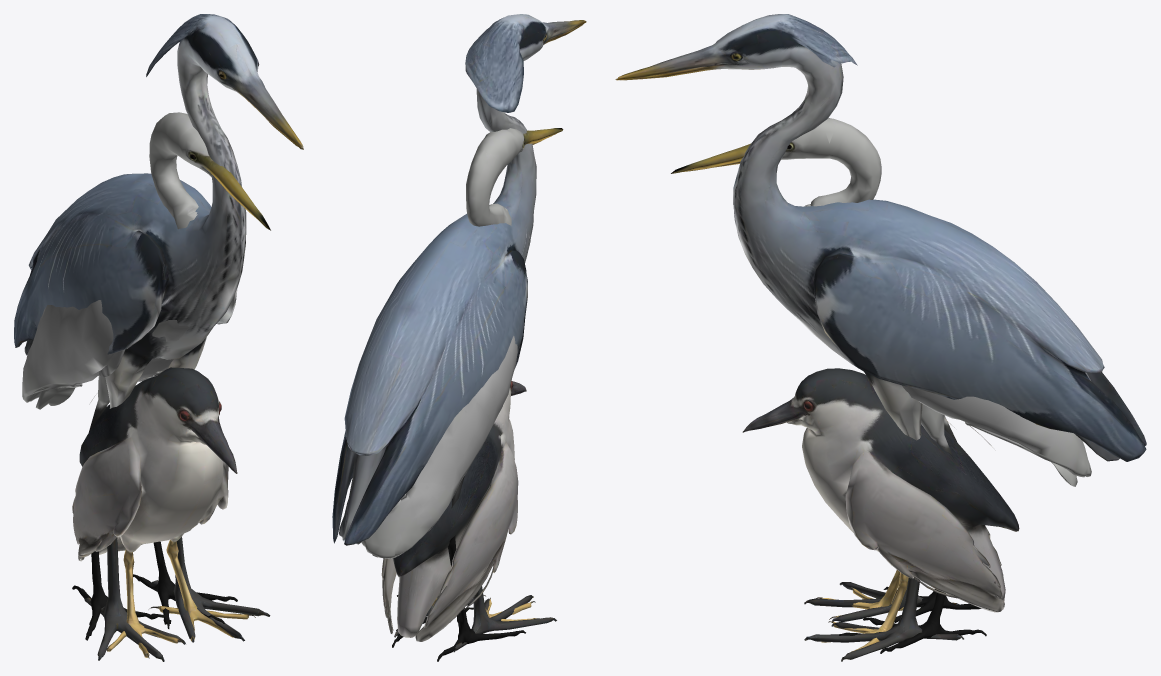
File: fauna_herons.glb
3 views of the same model, side by side, from view 1: azimuth 30°, elevation 25°; view 2: azimuth 150°, elevation 25°; view 3: azimuth 270°, elevation 25° (orthographic). The views are drawn at different scales.
Visible parts, largest first — view 1: cocoi_0, soco_0, egret_0; view 2: cocoi_0, soco_0, egret_0; view 3: cocoi_0, soco_0, egret_0.
Boxes of the visible parts, x1,y1,x2,y2 form: cocoi_0: (14,14,303,661); soco_0: (72,367,255,658); egret_0: (22,112,270,640); cocoi_0: (332,14,586,652); soco_0: (381,381,539,641); egret_0: (361,128,563,661); cocoi_0: (615,14,1146,661); soco_0: (742,368,1019,651); egret_0: (671,118,1091,653).
Bounding box in the file's own units: 0.3218 × 1.15 × 0.9114.
1 material, 1 textured.
